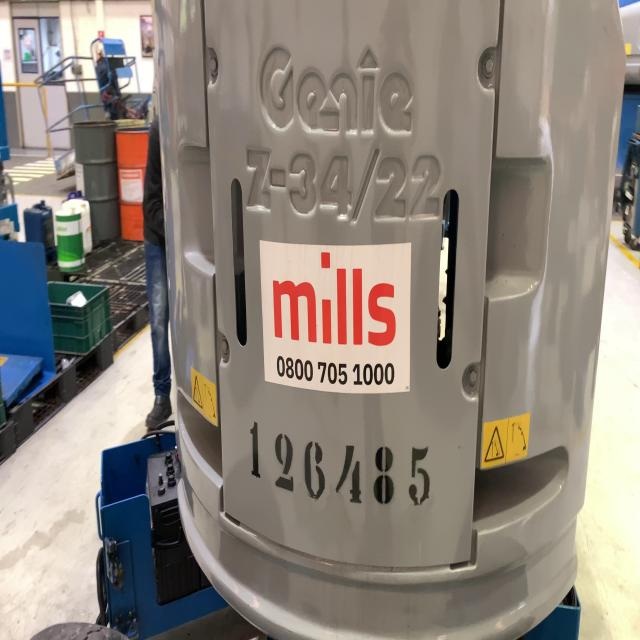Adesivos: (257, 238, 413, 395)
